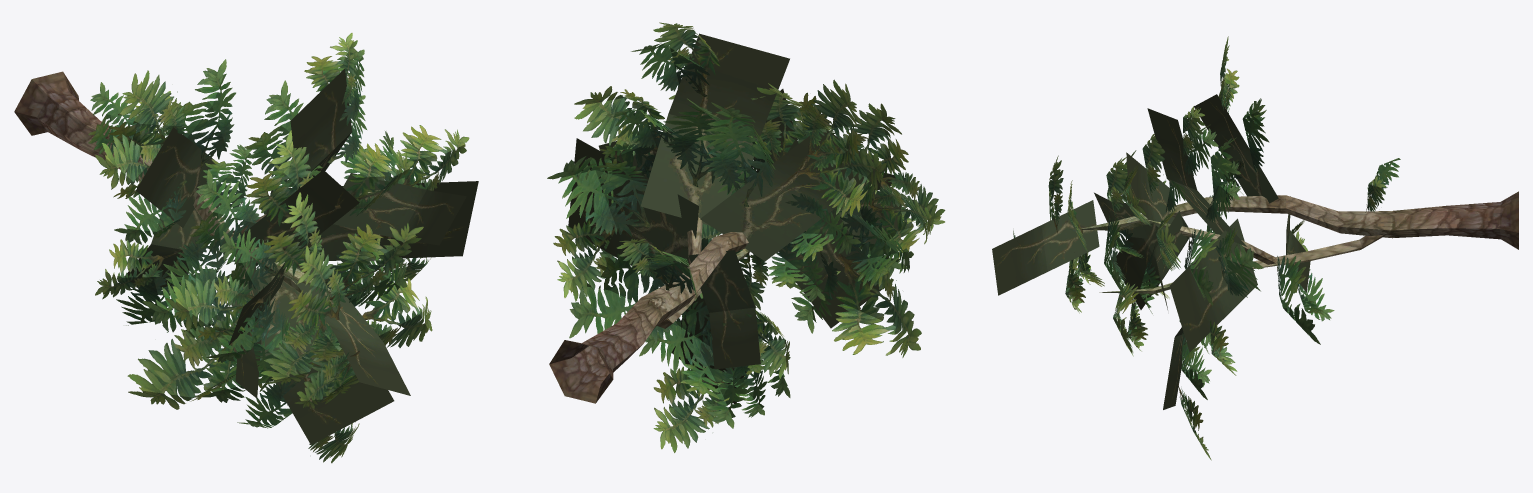
File: baiqianceng.obj
3 views of the same model, side by side, from view 1: azimuth 30°, elevation 25°; view 2: azimuth 150°, elevation 25°; view 3: azimuth 270°, elevation 25° (orthographic). The views are drawn at different scales.
Parts seen in each view (by area): view 1: baiqianceng; view 2: baiqianceng; view 3: baiqianceng.
Boxes of the visible parts, bbox=[...] form: baiqianceng: bbox=[14, 33, 478, 463]; baiqianceng: bbox=[547, 22, 945, 452]; baiqianceng: bbox=[992, 36, 1518, 460].
Size of the model in its own units: 172 by 198 by 241.
Materials: 3 (3 with a texture image).
